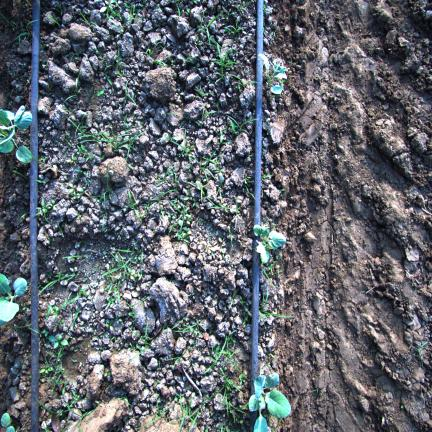crop: (248, 373, 291, 432), (0, 106, 32, 153), (0, 274, 27, 325), (254, 225, 286, 263), (259, 54, 287, 95), (0, 412, 15, 432), (16, 146, 33, 163)
